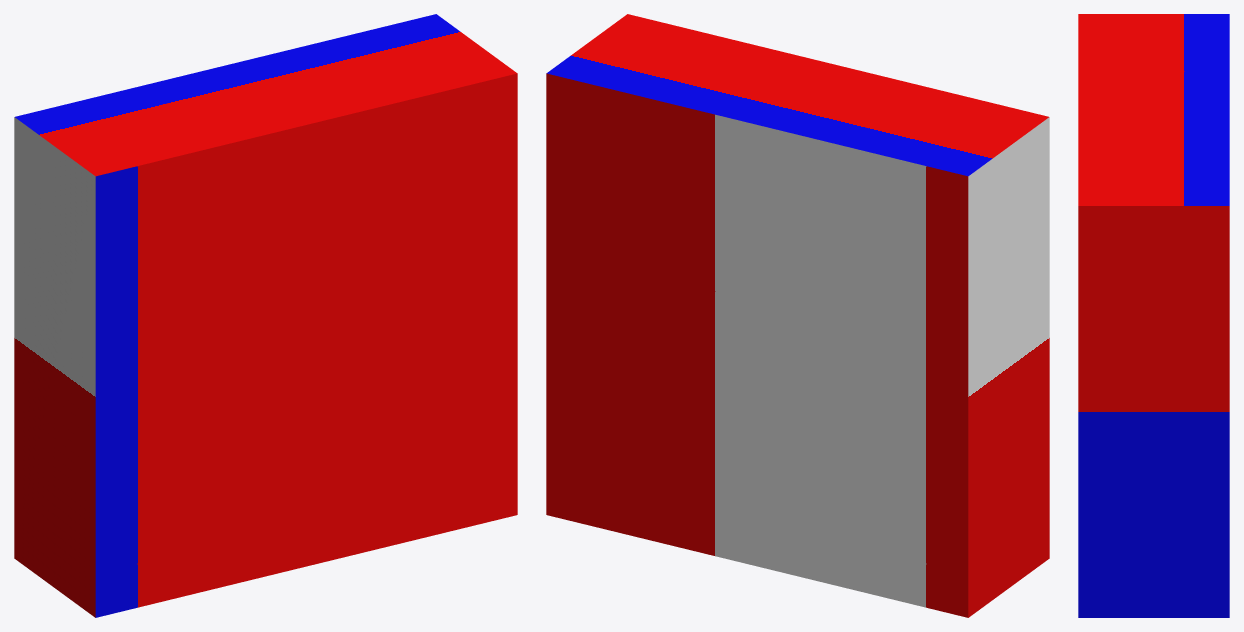
The picture shows the model from 3 angles, left to right: view 1: azimuth 30°, elevation 25°; view 2: azimuth 150°, elevation 25°; view 3: azimuth 270°, elevation 25°; orthographic projection. The views are drawn at different scales.
Parts seen in each view (by area): view 1: box; view 2: box; view 3: box.
Boxes of the visible parts, bbox=[...] form: box: bbox=[14, 14, 517, 617]; box: bbox=[546, 14, 1049, 617]; box: bbox=[1078, 14, 1229, 617].
Size of the model in its own units: 3 by 3 by 1.
Materials: 1 (1 with a texture image).
